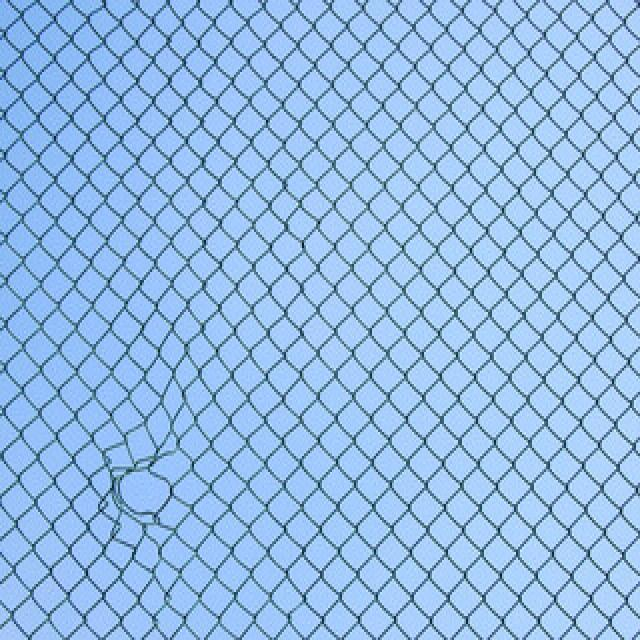fence line: (98, 448, 188, 541)
